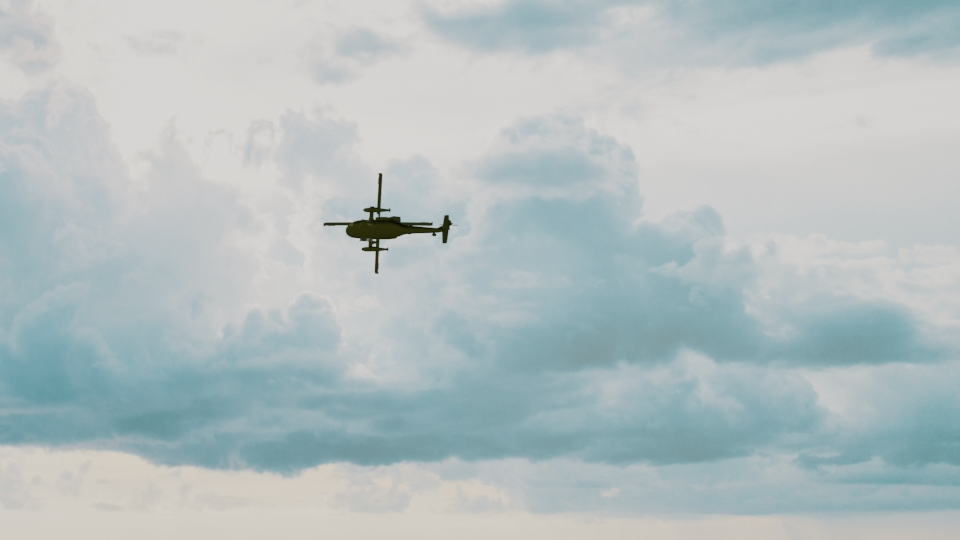heli: (331, 170, 453, 274)
